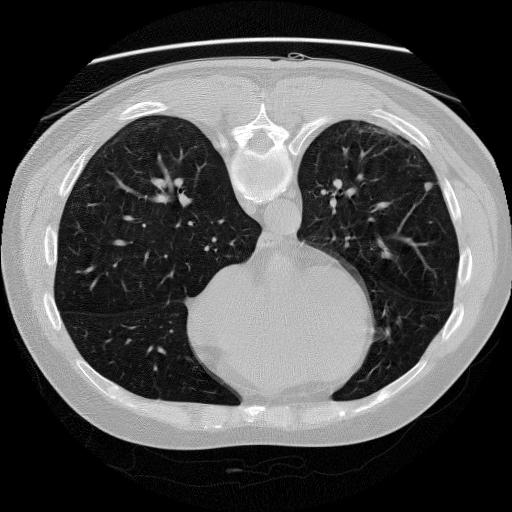nodule: (420, 180, 434, 194)
